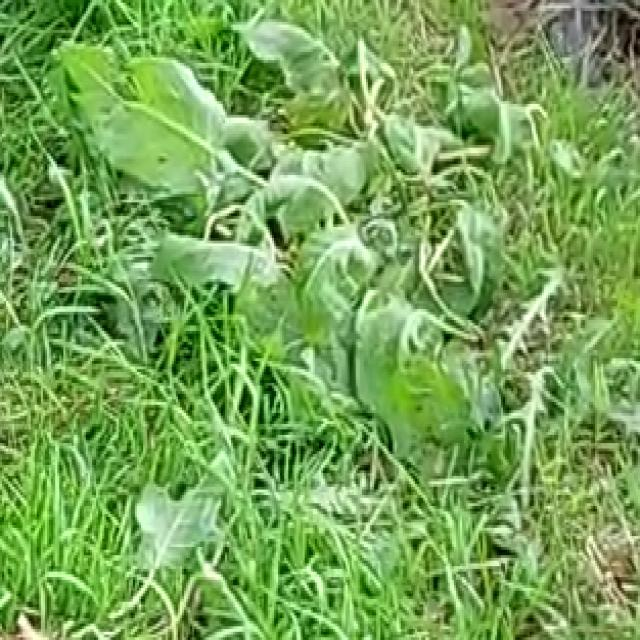organic waste: (61, 11, 392, 323), (252, 129, 526, 465)
